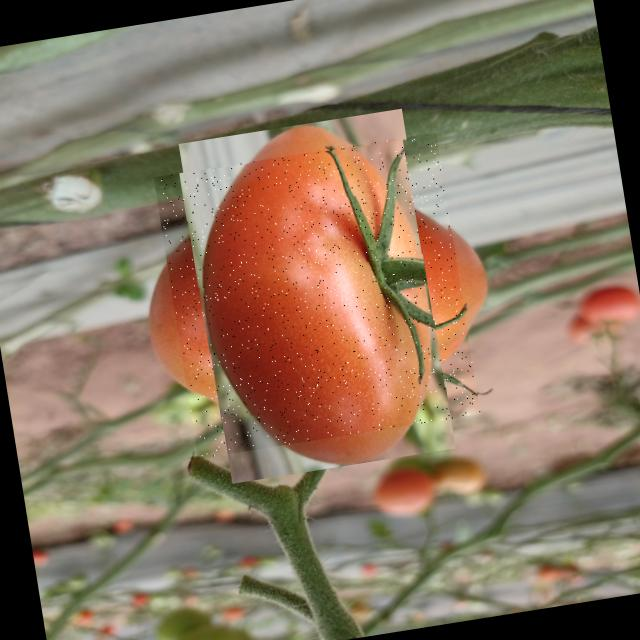Ripe Tomato: (153, 132, 480, 458)
